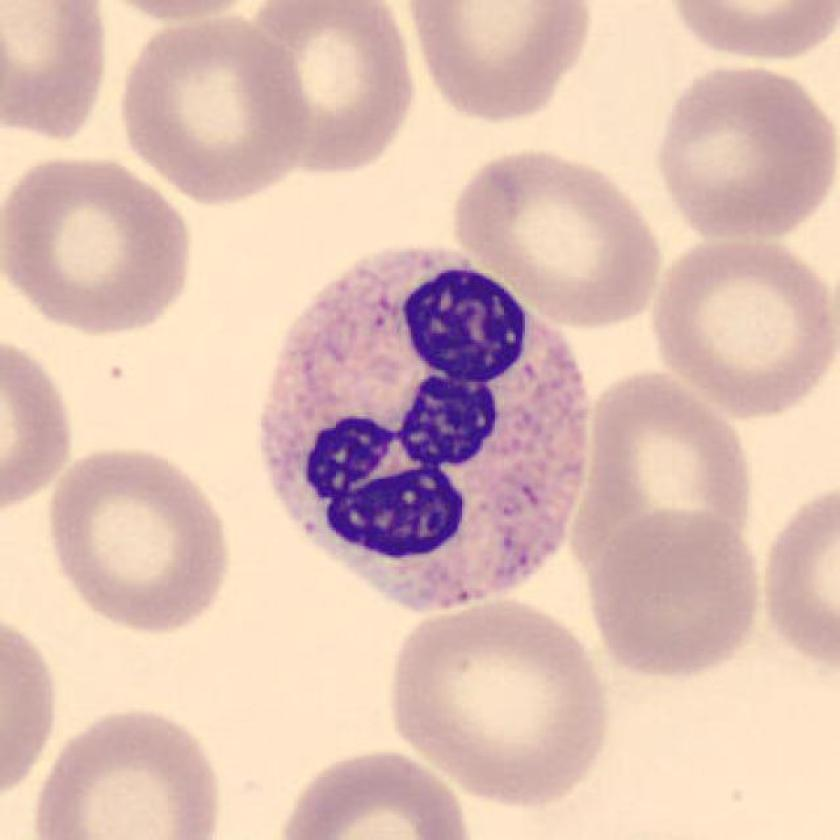neutrophil: (258, 248, 588, 617)
